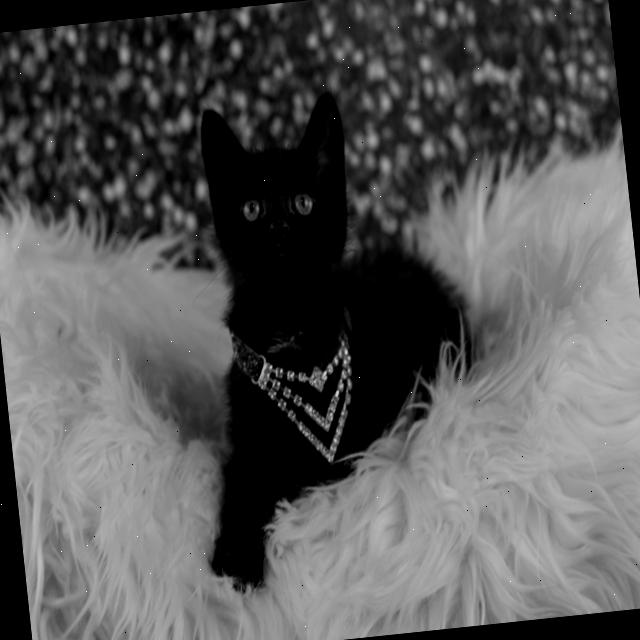bombay_cat: (183, 78, 370, 330)
